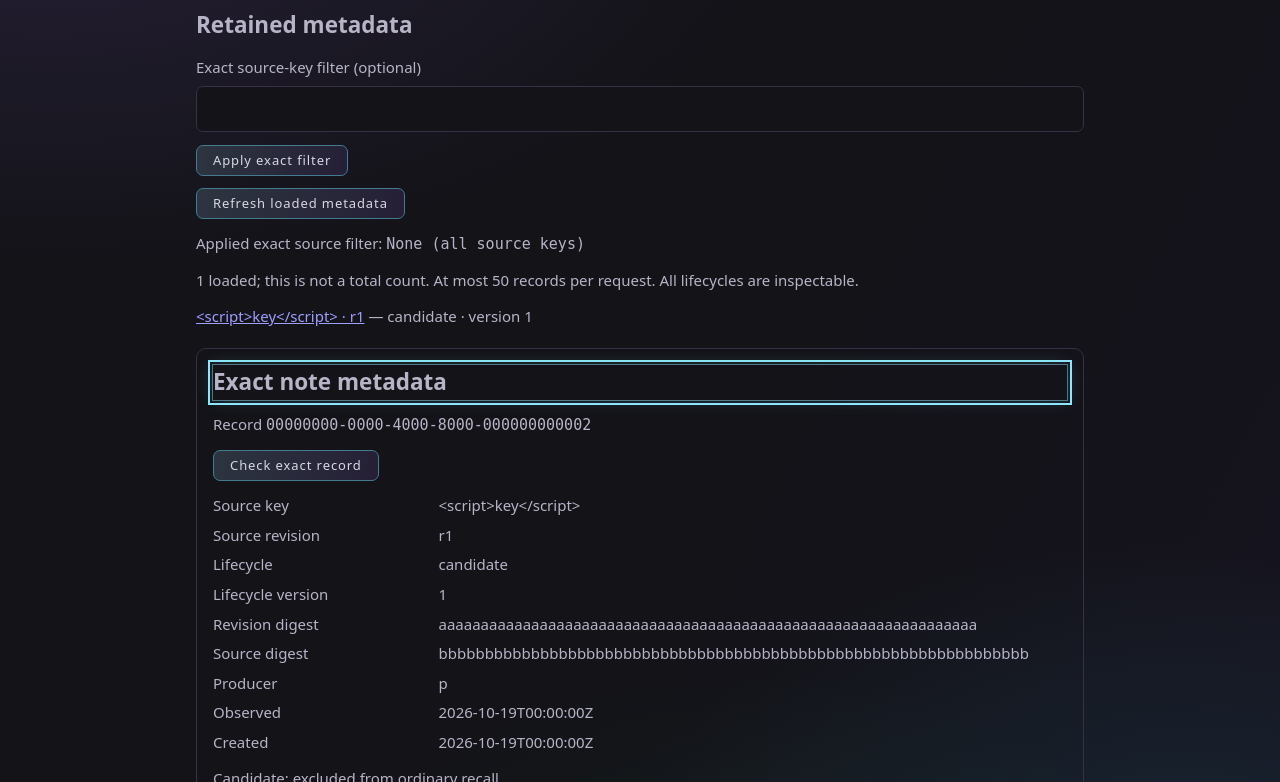
Test case: requires separate promotion and exact revoke confirmation, with no POST from refresh
(page scrolled)
Click the button "Check exact record" at (296, 466), box [213,450,379,481]
(page scrolled)
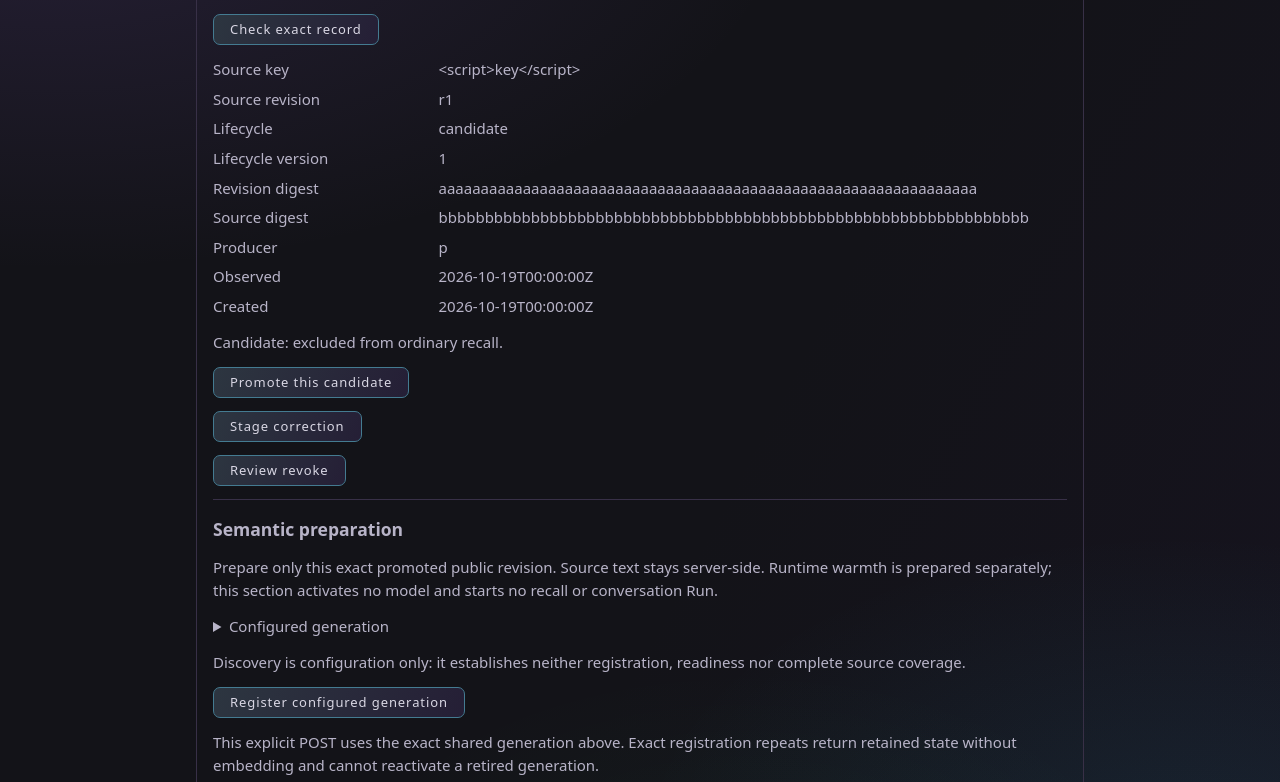
Click the button "Promote this candidate" at (311, 383), box [213,367,409,398]
(page scrolled)
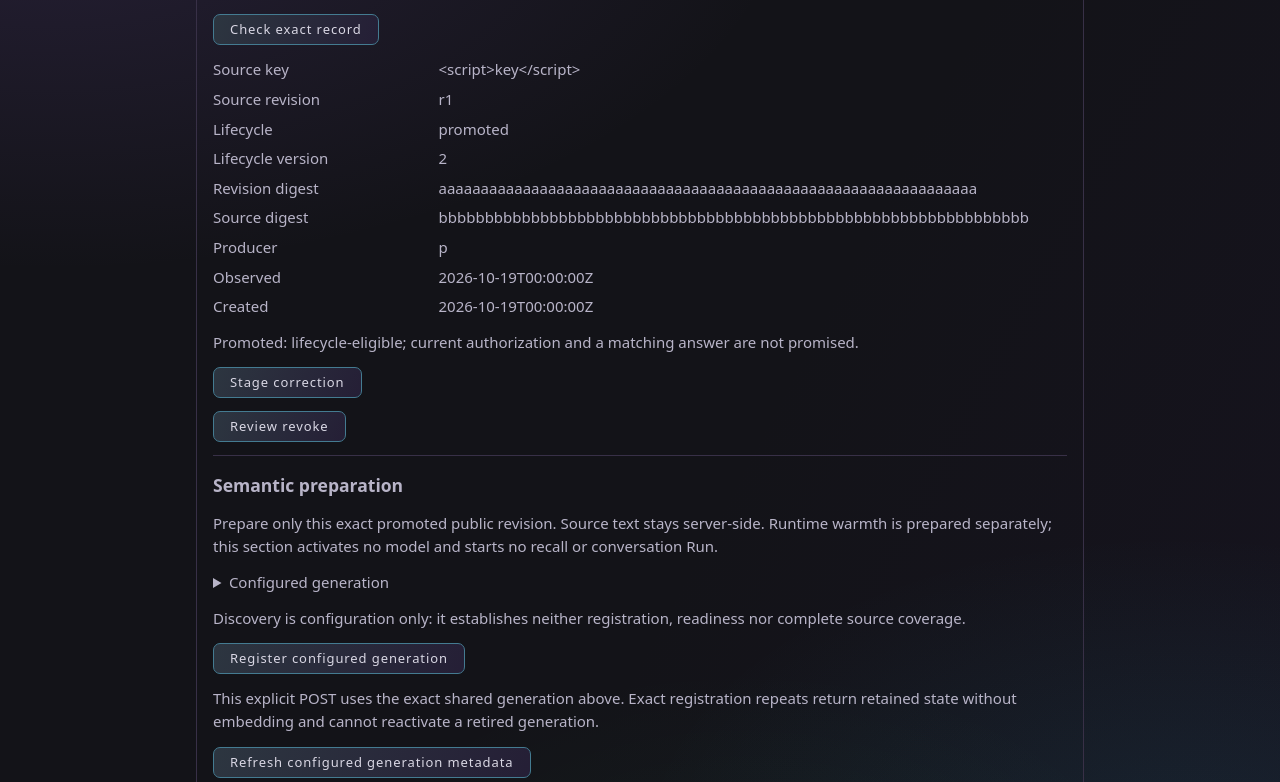
Result: the text "Promoted: lifecycle-eligible" is shown at [213,332,859,352]
Click the button "Review revoke" at (279, 427), box [213,411,346,442]
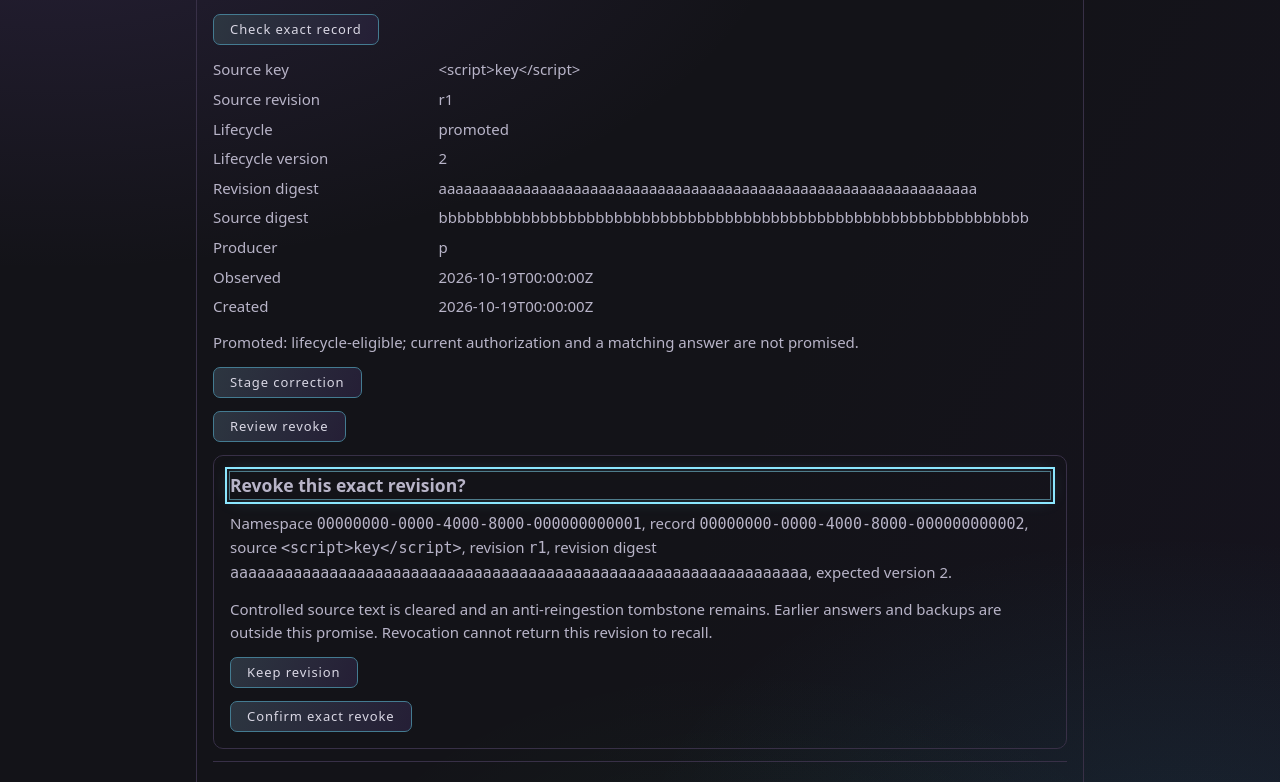
Click the button "Confirm exact revoke" at (321, 716), box [230,701,412,732]
(page scrolled)
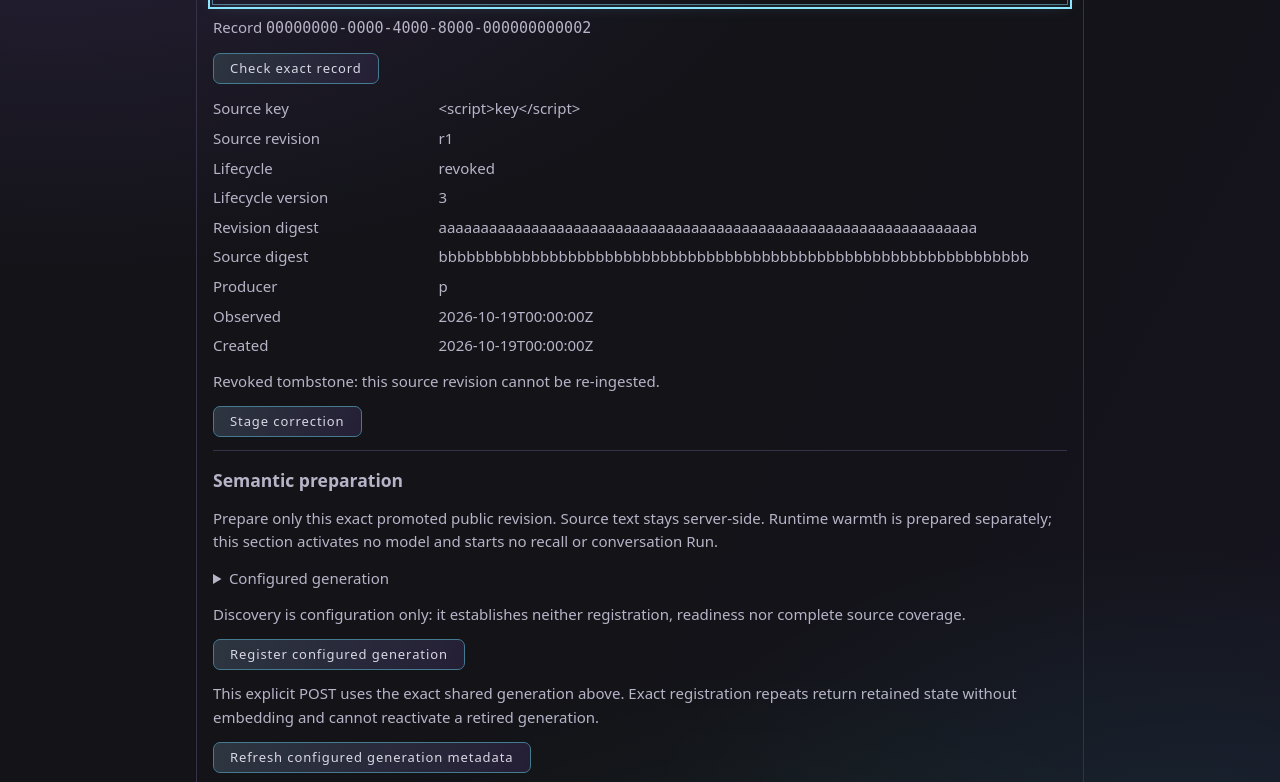
Result: the text "Revoked tombstone:" is shown at [213,371,660,391]
